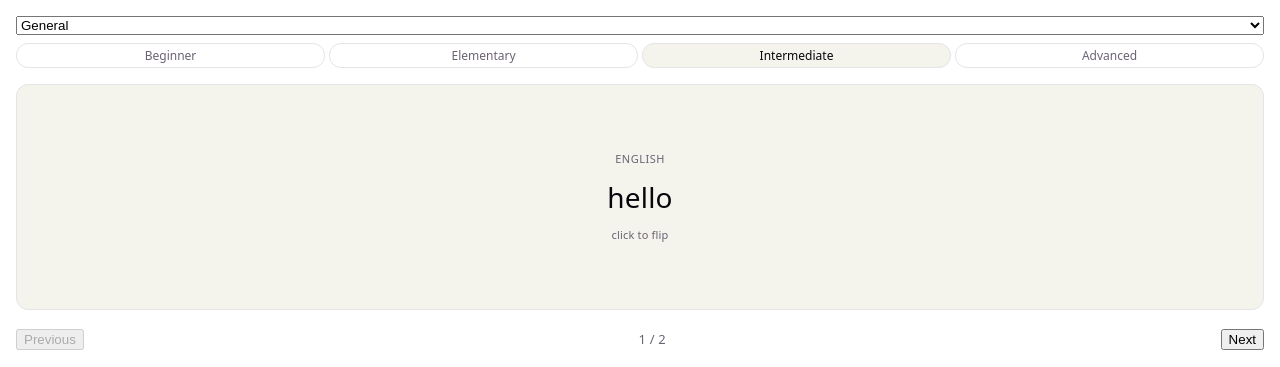
Test case: FlashcardsView › shows completion message after advancing past last card
Expected: the text "hello" is shown, top-left (607, 184), bottom-right (673, 210)
Click the button "Next".
click(1242, 339)  # box top-left (1221, 328), bottom-right (1264, 350)
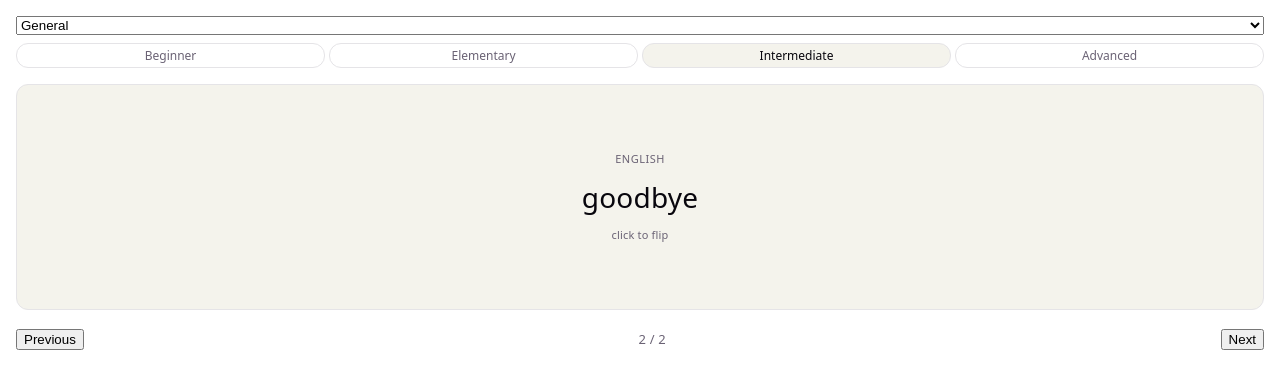
Click the button "Next".
click(1242, 339)  # box top-left (1221, 328), bottom-right (1264, 350)
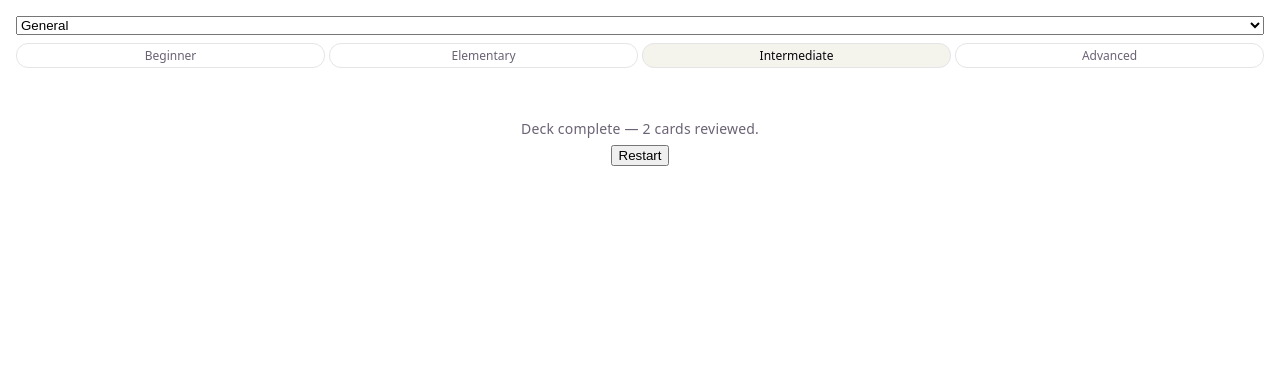
Expected: the text "Deck complete — 2 cards reviewed." is shown, top-left (521, 119), bottom-right (759, 138)
